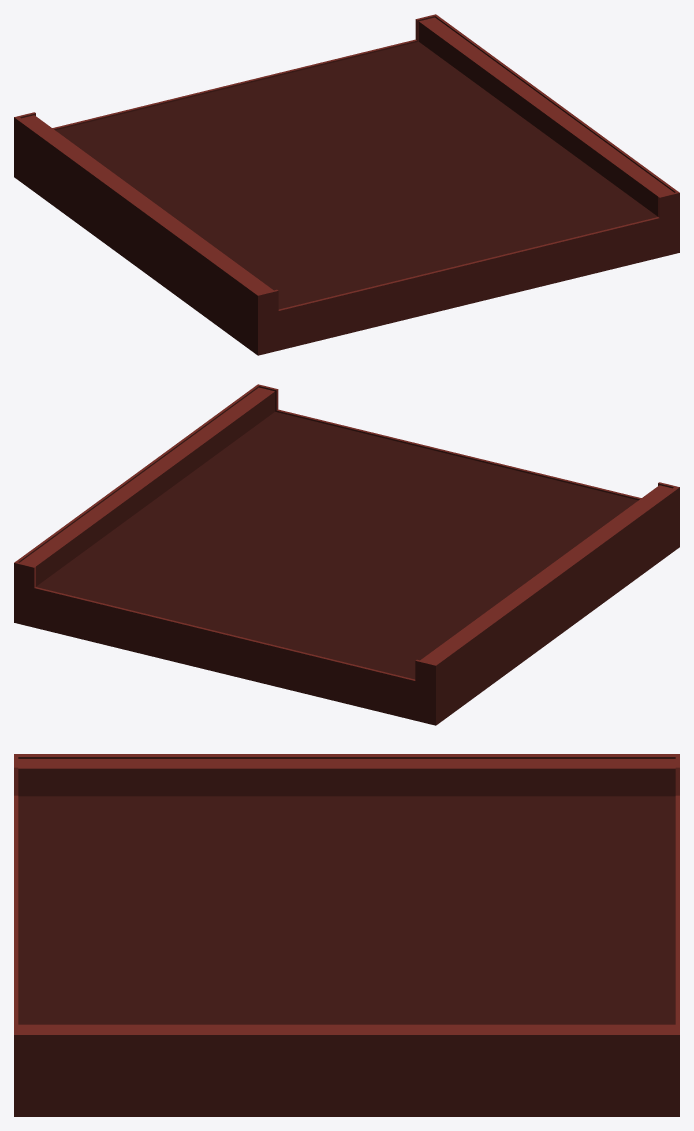
File: Cupcake Tray Sort - Conveyor 2.fbx
3 views of the same model, one above another, from view 1: azimuth 30°, elevation 25°; view 2: azimuth 150°, elevation 25°; view 3: azimuth 270°, elevation 25° (orthographic). The views are drawn at different scales.
Visible parts, largest first — view 1: conveyor 2; view 2: conveyor 2; view 3: conveyor 2.
Part boxes in pixels (box(x1,y1,x2,y2)): conveyor 2: box(14, 14, 679, 355); conveyor 2: box(14, 384, 679, 725); conveyor 2: box(14, 754, 679, 1116).
Size of the model in its own units: 0.0598 by 0.0599 by 0.00812.
